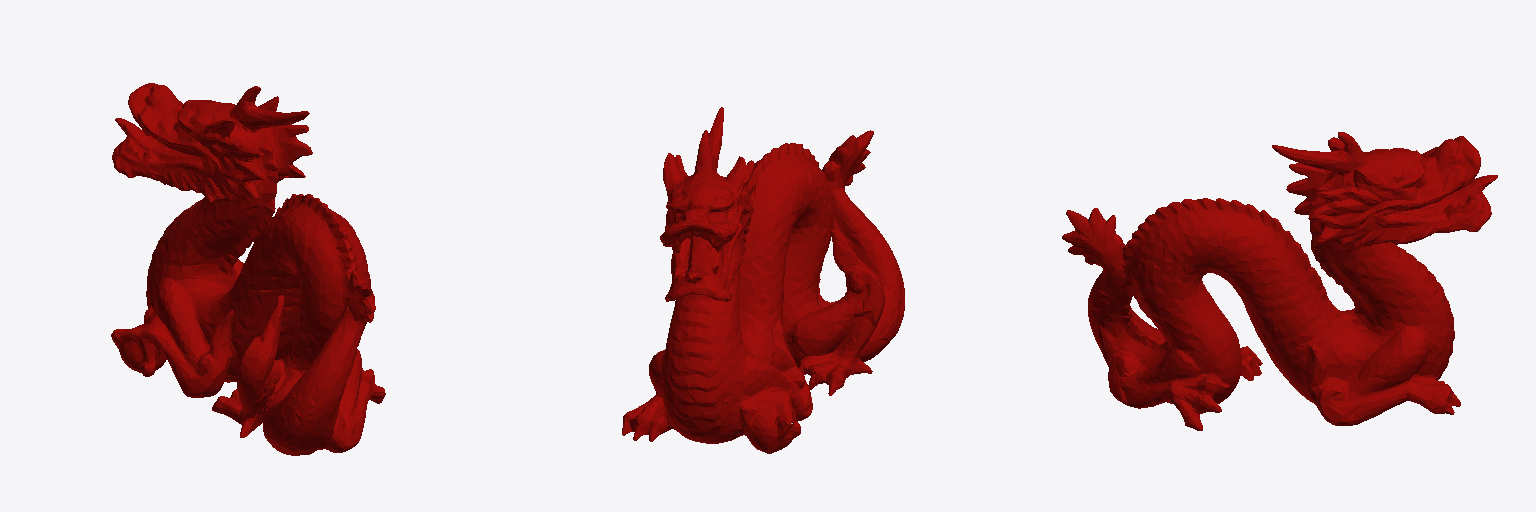
File: dragon19k.obj
The picture shows the model from 3 angles: view 1: azimuth 30°, elevation 25°; view 2: azimuth 150°, elevation 25°; view 3: azimuth 270°, elevation 25°; orthographic projection.
Visible parts, largest first — view 1: dragon; view 2: dragon; view 3: dragon.
Part boxes in pixels (x1,y1,x2,y2): dragon: (111, 83, 385, 455); dragon: (622, 107, 904, 453); dragon: (1062, 132, 1497, 430).
Bounding box in the file's own units: 0.4471 × 0.7043 × 0.9973.